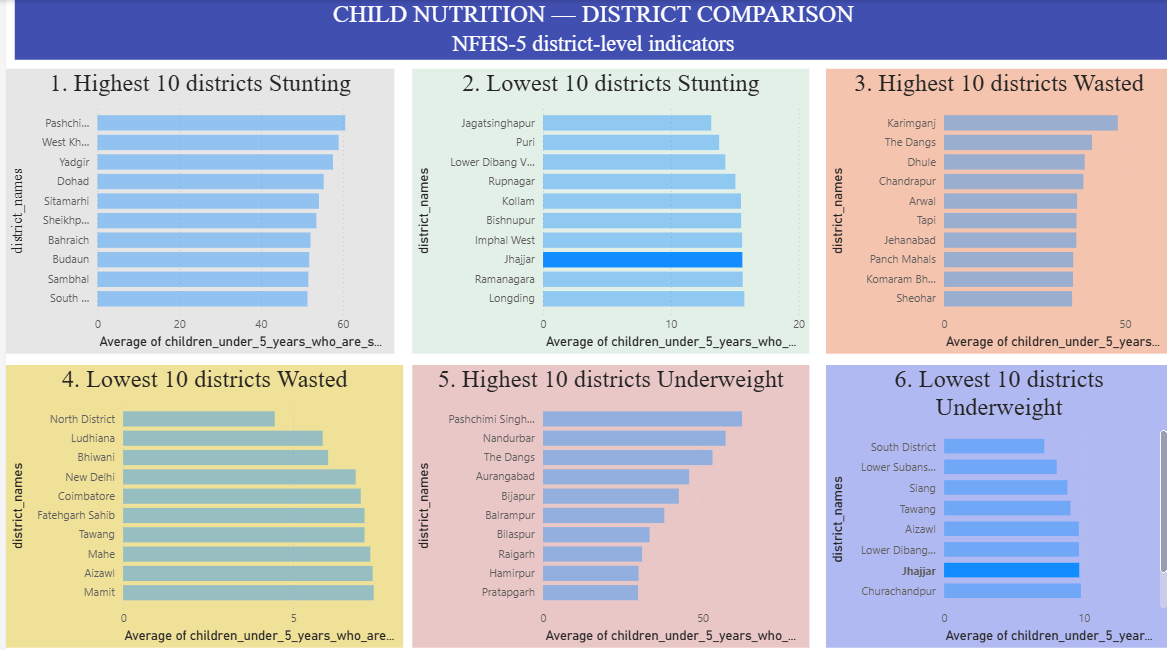

The page's visual inventory and layout, read from the dashboard file:
{"tool":"powerbi","page":{"name":"Page 2","canvas":[1280,720],"ordinal":1},"visuals":[{"type":"textbox","title":"CHILD NUTRITION — DISTRICT COMPARISON","box":[9.6,0,1270.7,65.9],"z":0},{"type":"clusteredBarChart","title":"1. Highest Stunting","fields":{"Y":["Avg(nfhs_cleaned.children_under_5_years_who_are_stunted_height_for_age_18)"],"Category":["nfhs_cleaned.district_names"]},"box":[9.6,75.5,426.8,312.9],"z":1000},{"type":"clusteredBarChart","title":"2. Lowest Stunting","fields":{"Category":["nfhs_cleaned.district_names"],"Y":["Avg(nfhs_cleaned.children_under_5_years_who_are_stunted_height_for_age_18)"]},"box":[446,75.5,436.4,312.9],"z":2000},{"type":"clusteredBarChart","title":"3. Highest Wasted","fields":{"Y":["Avg(nfhs_cleaned.children_under_5_years_who_are_wasted_weight_for_height_18)"],"Category":["nfhs_cleaned.district_names"]},"box":[900.2,75.5,380.1,312.9],"z":3000},{"type":"clusteredBarChart","title":"4. Lowest Wasted","fields":{"Y":["Avg(nfhs_cleaned.children_under_5_years_who_are_wasted_weight_for_height_18)"],"Category":["nfhs_cleaned.district_names"]},"box":[0,400.7,436.4,310.1],"z":4000},{"type":"clusteredBarChart","title":"5. Highest Underweight","fields":{"Y":["Avg(nfhs_cleaned.children_under_5_years_who_are_underweight_weight_for_age_18)"],"Category":["nfhs_cleaned.district_names"]},"box":[446,401,436,310],"z":5000},{"type":"clusteredBarChart","title":"6. Lowest Underweight","fields":{"Y":["Avg(nfhs_cleaned.children_under_5_years_who_are_underweight_weight_for_age_18)"],"Category":["nfhs_cleaned.district_names"]},"box":[900,401,380,310],"z":6000}]}

Visuals, with their boxes in screenshot pixels (x1, y1, x2, y2), scaled from the page's 1280x720 canvas onto the 1167x650 screenshot:
"CHILD NUTRITION — DISTRICT COMPARISON" textbox: crop(9, 0, 1166, 59)
"1. Highest Stunting" clusteredBarChart: crop(9, 68, 398, 351)
"2. Lowest Stunting" clusteredBarChart: crop(407, 68, 805, 351)
"3. Highest Wasted" clusteredBarChart: crop(821, 68, 1166, 351)
"4. Lowest Wasted" clusteredBarChart: crop(0, 362, 398, 642)
"5. Highest Underweight" clusteredBarChart: crop(407, 362, 804, 642)
"6. Lowest Underweight" clusteredBarChart: crop(821, 362, 1166, 642)
